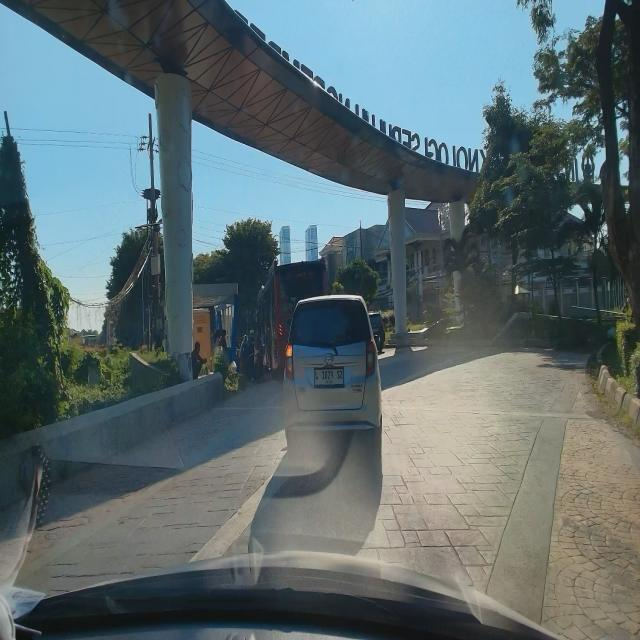car: (286, 297, 386, 466)
license-plate: (313, 367, 346, 390)
